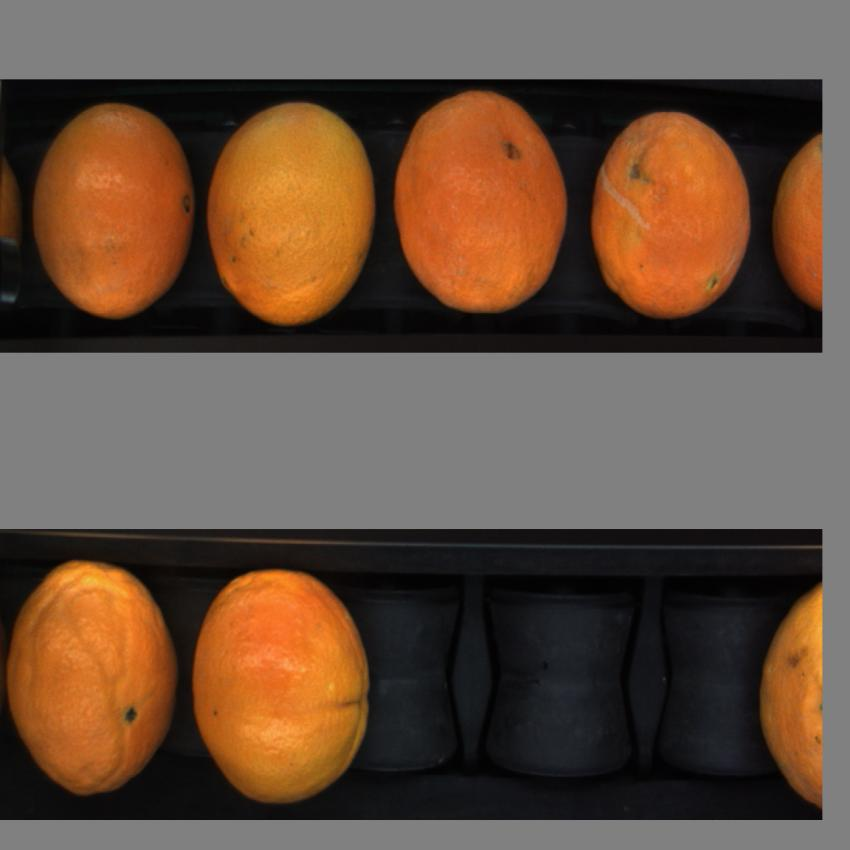Buen estado: (194, 566, 380, 804), (8, 552, 179, 796), (32, 94, 201, 322), (207, 106, 377, 325)
Mal estado: (393, 94, 570, 312), (589, 106, 753, 315), (762, 573, 824, 810), (770, 131, 826, 309)
